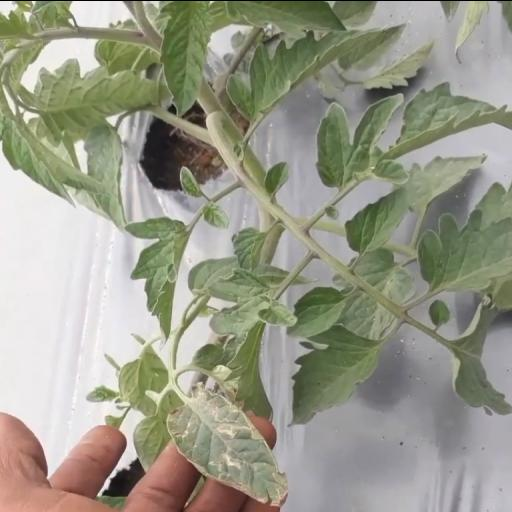Healthy: (288, 322, 380, 430), (342, 183, 411, 253), (282, 284, 346, 336)
Leaf Miner: (164, 379, 286, 504)
